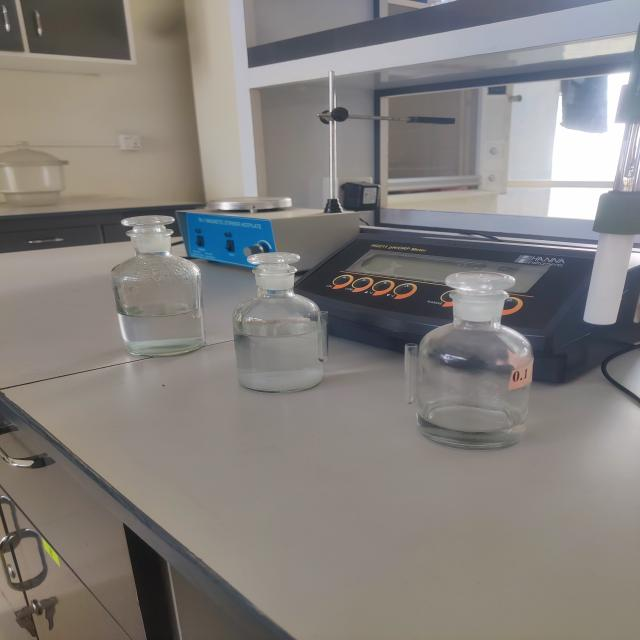Reagent_Bottle: (384, 254, 587, 470), (210, 230, 359, 402), (92, 194, 224, 368)
